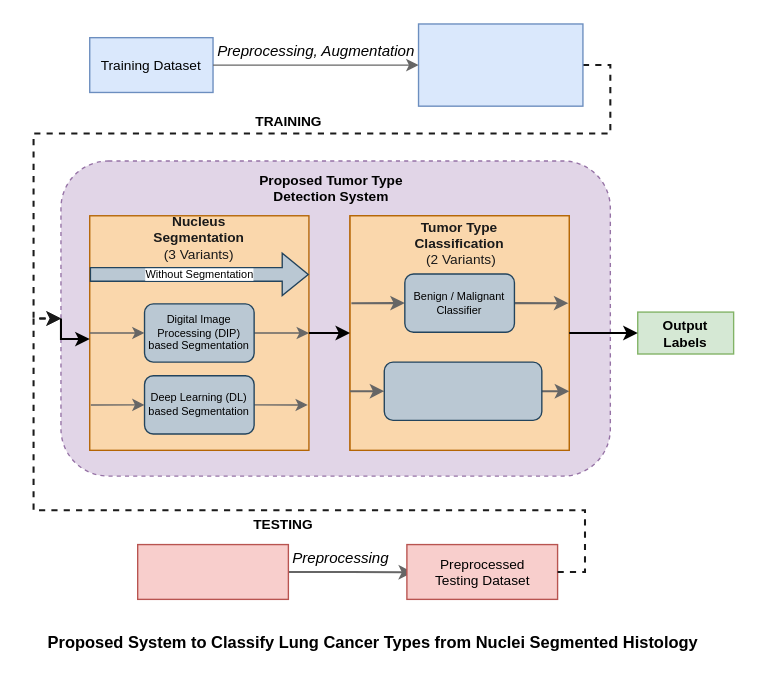
This 759x688 diagram has some shape labels left out. The shapes that lost their labels are listed below. From the top down, each one's centre as x and y in pixels, then its label:
the point at 500,64: Preprocessed, Augmented Training Dataset
the point at 462,390: Adenocarcinoma / Squamous-Cell Carcinoma / Benign Classifier
the point at 212,571: Testing Dataset
